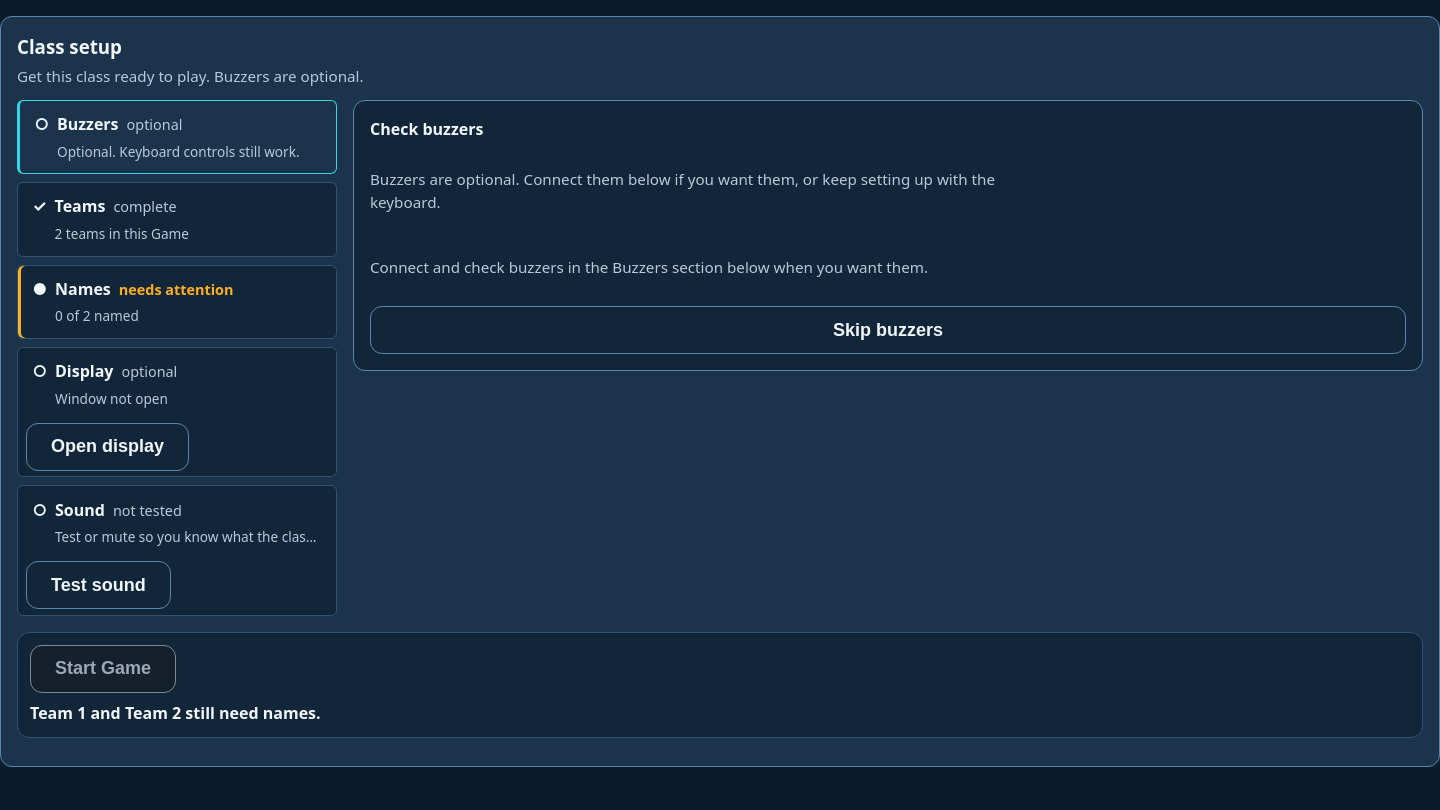
Test: ClassroomSetupPanel › keeps Open Game settings secondary when Teams are valid but Names still required
Step 1. Click the button with test id "readiness-teams" → point(177, 219), box [26, 189, 328, 250]
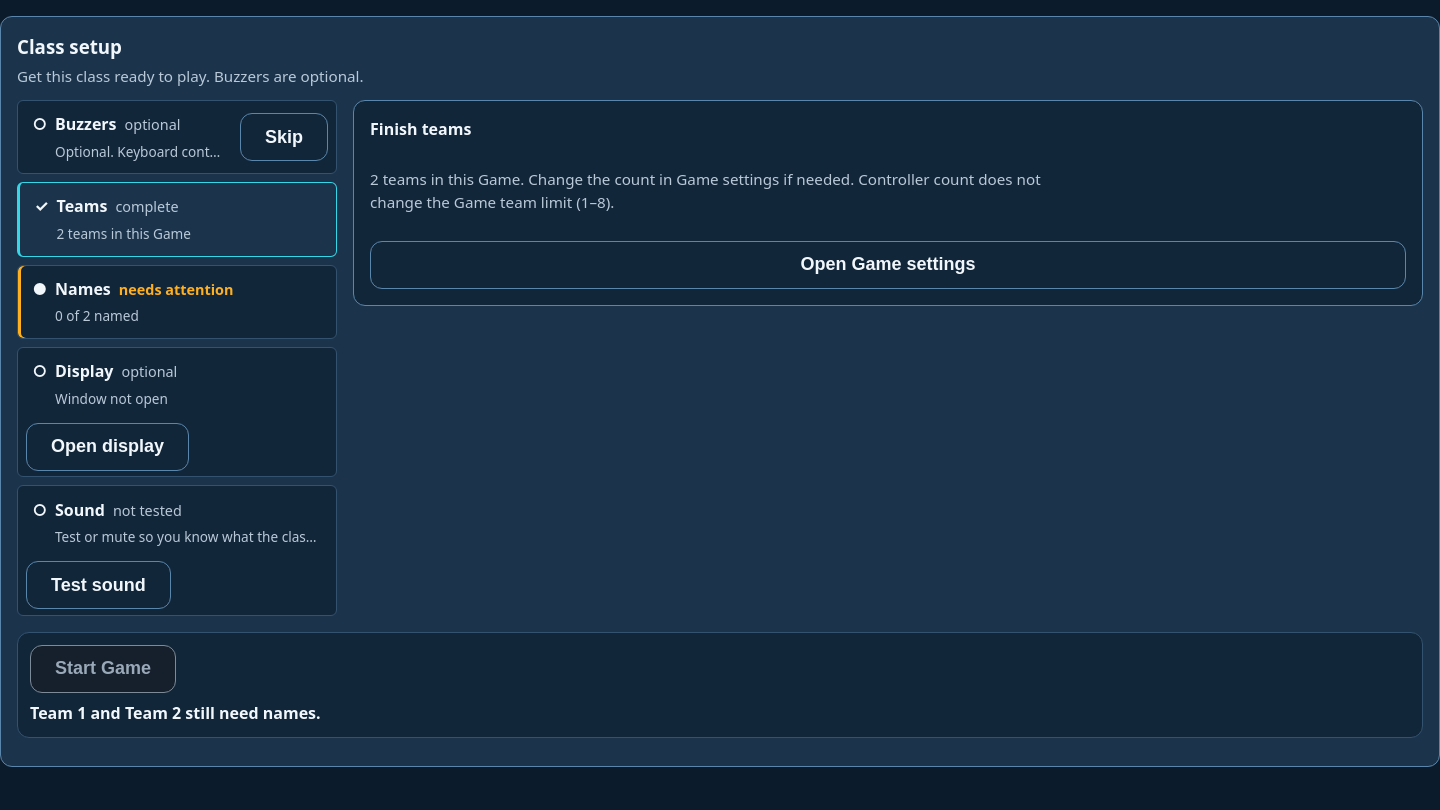
Expected: the button with test id "setup-play" is disabled, [30, 645, 176, 693]
Expected: the button with test id "setup-fix-team-count" reads "Open Game settings", [370, 241, 1406, 289]
